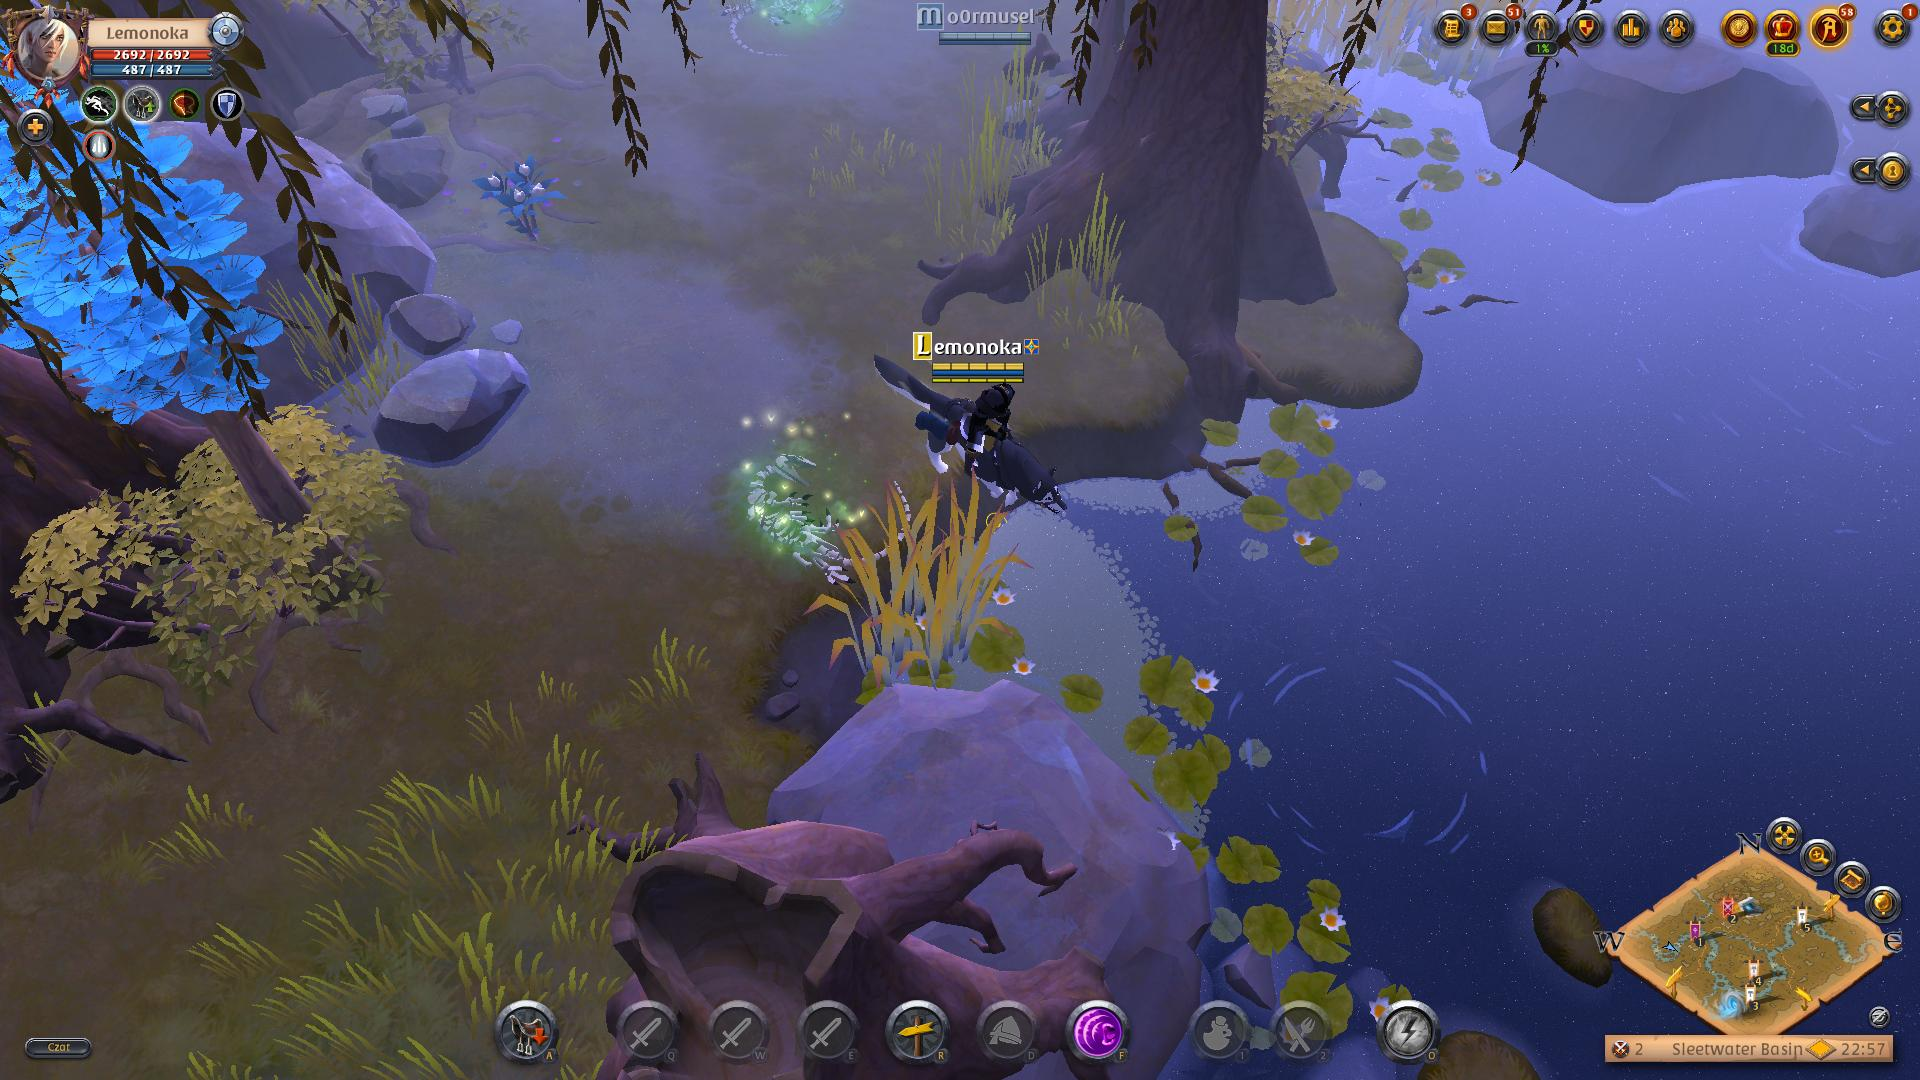fiber tier 4: (463, 164, 579, 252)
fish: (1217, 636, 1505, 889)
